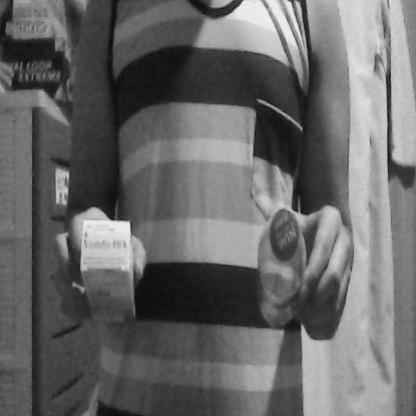Plastic Bottle: (251, 192, 310, 348)
